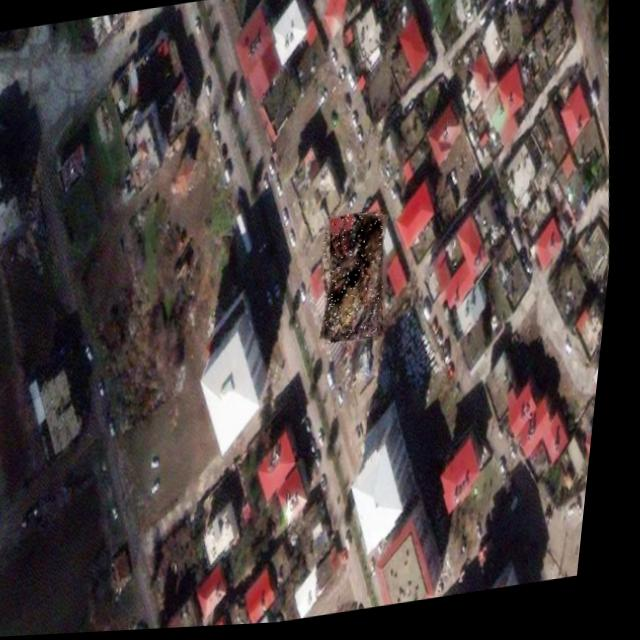Rubble: (319, 212, 401, 348)
